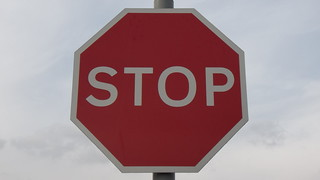StopSign: (69, 7, 248, 173)
